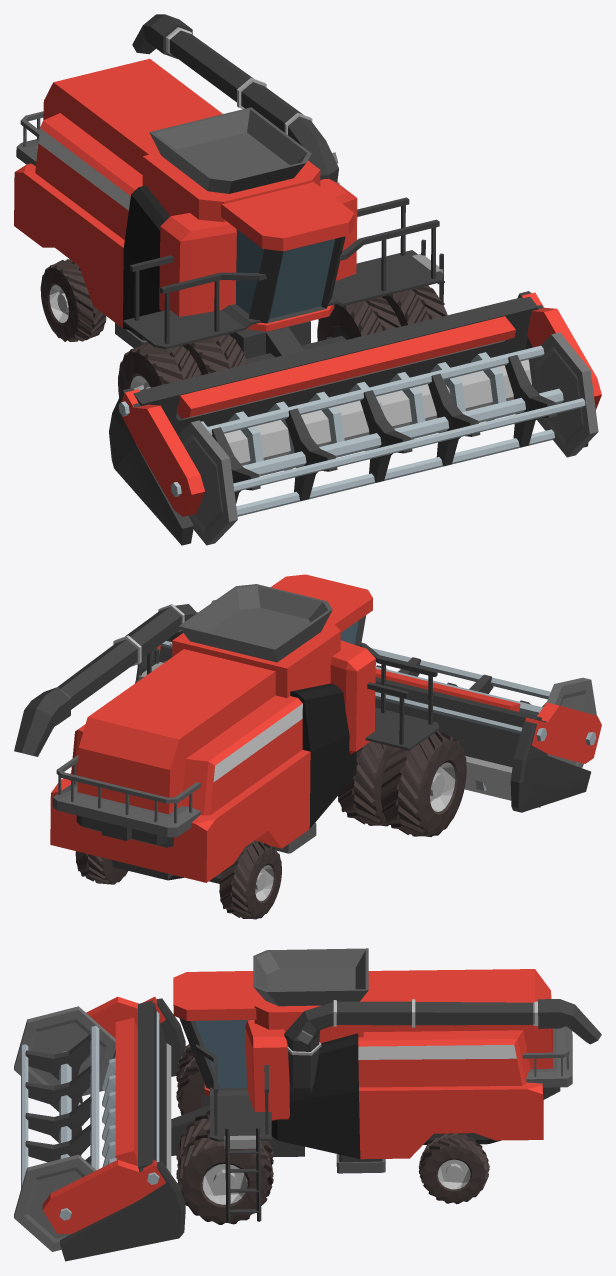
File: harvester_002.glb
3 renders of one model, top to bottom at view 1: azimuth 30°, elevation 25°; view 2: azimuth 150°, elevation 25°; view 3: azimuth 270°, elevation 25°, orthographic. The views are drawn at different scales.
Visible parts, largest first — view 1: harvester_002; view 2: harvester_002; view 3: harvester_002.
Boxes of the visible parts, <box> form: harvester_002: <box>14,14,601,545</box>; harvester_002: <box>14,574,601,919</box>; harvester_002: <box>14,948,601,1261</box>.
Size of the model in its own units: 7.06 by 4.01 by 10.21.
1 material, 1 textured.
